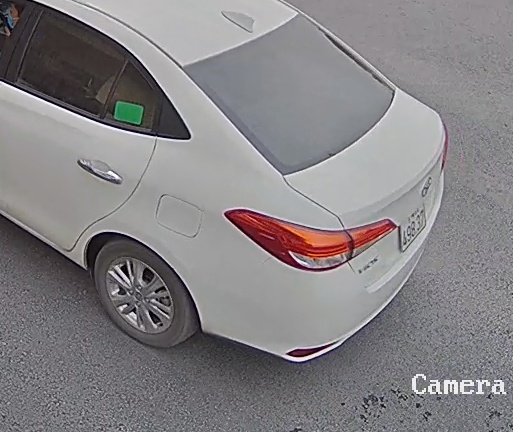vehicle plate: (398, 209, 432, 252)
